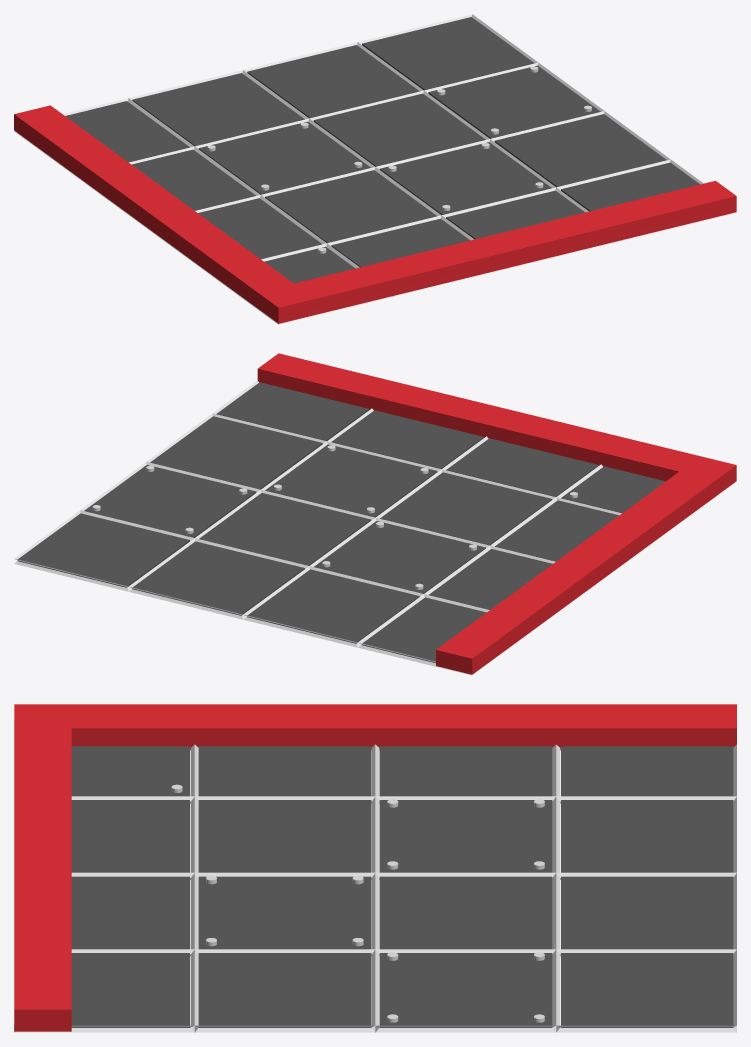
Rendered from Corner.fbx.
The picture shows the model from 3 angles, top to bottom: view 1: azimuth 30°, elevation 25°; view 2: azimuth 150°, elevation 25°; view 3: azimuth 270°, elevation 25°; orthographic projection. The views are drawn at different scales.
Visible parts, largest first — view 1: Base.001, Cube.001, Plane.001, Cylinder.001; view 2: Base.001, Cube.001, Plane.001, Cylinder.001; view 3: Base.001, Cube.001, Plane.001, Cylinder.001.
Boxes of the visible parts, x1,y1,x2,y2 form: Base.001: (65,17,699,283); Cube.001: (14,105,736,323); Plane.001: (14,14,736,324); Cylinder.001: (207,66,591,253); Base.001: (18,382,665,662); Cube.001: (257,353,736,674); Plane.001: (14,380,736,675); Cylinder.001: (92,445,577,589); Base.001: (71,746,733,1027); Cube.001: (14,704,736,1031); Plane.001: (14,720,736,1032); Cylinder.001: (171,784,544,1022).
Bounding box in the file's own units: 1.01 × 0.037 × 1.01.
